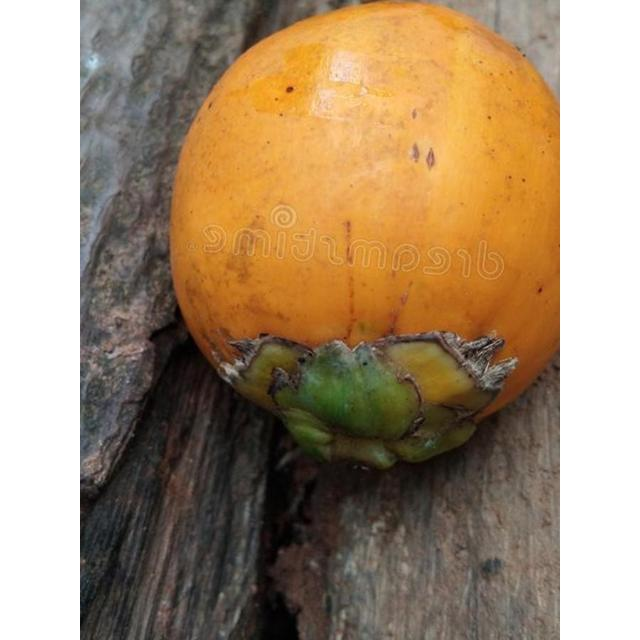good: (169, 1, 559, 473)
